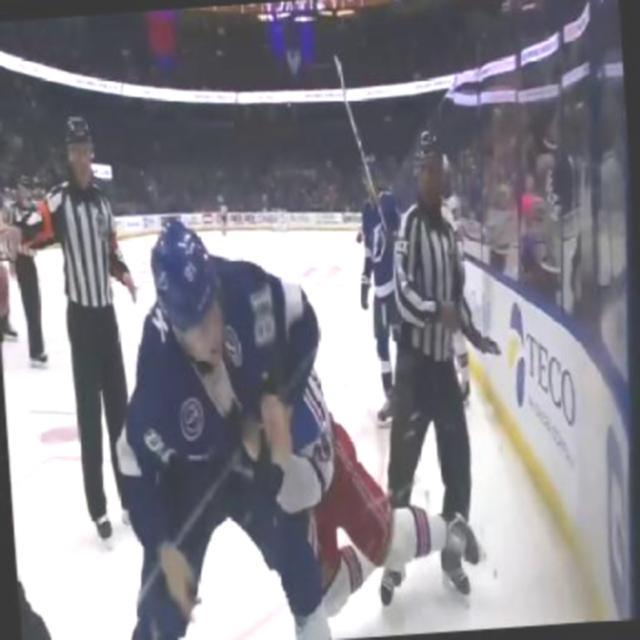fight: (96, 210, 402, 638)
non-fight: (366, 130, 480, 576)
